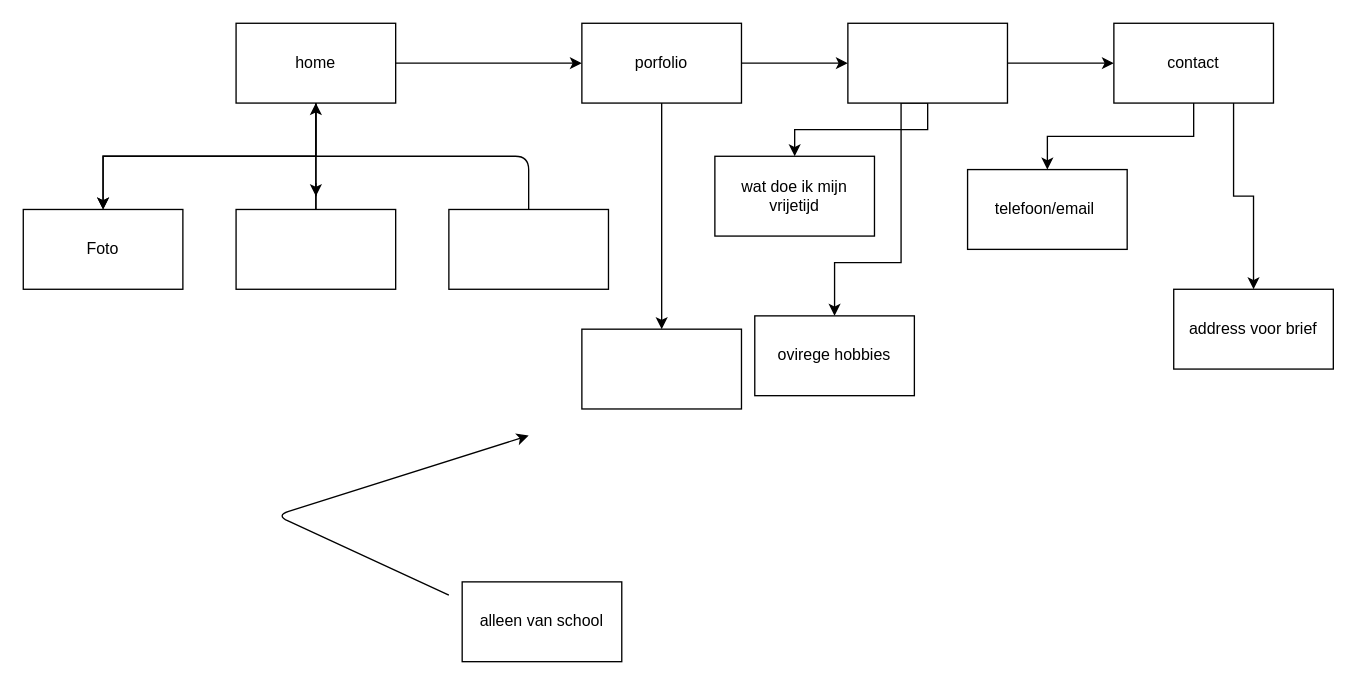
Image size: 1357x685. Some labels were removed from this diagram. The centre of each missing label's shape, as x and y in pixels:
header: [528,248]
informatie: [315,248]
interessen: [927,62]
projecten en opdrachten die ik gedaan heb: [661,368]
